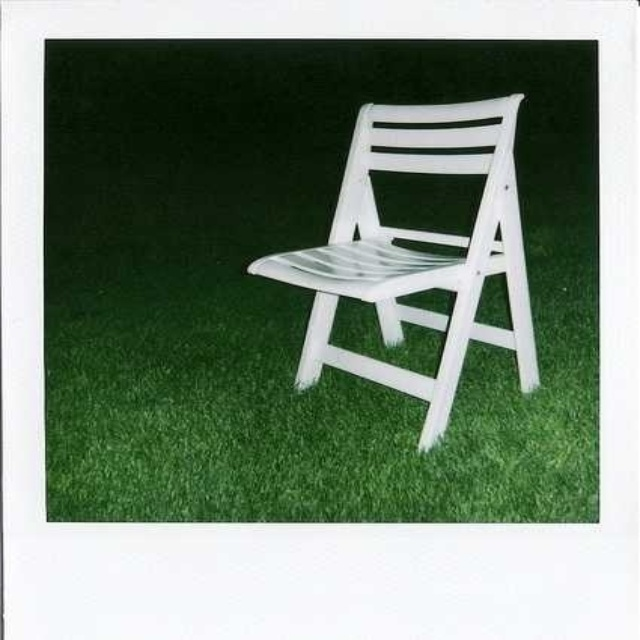obstacle: (247, 93, 538, 449)
